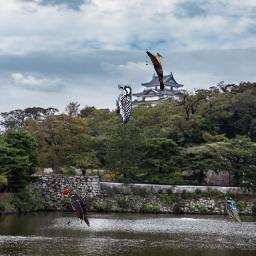Swallow: (146, 51, 165, 91), (226, 196, 242, 225)
Woodpecker: (62, 187, 90, 227), (116, 84, 132, 124)
